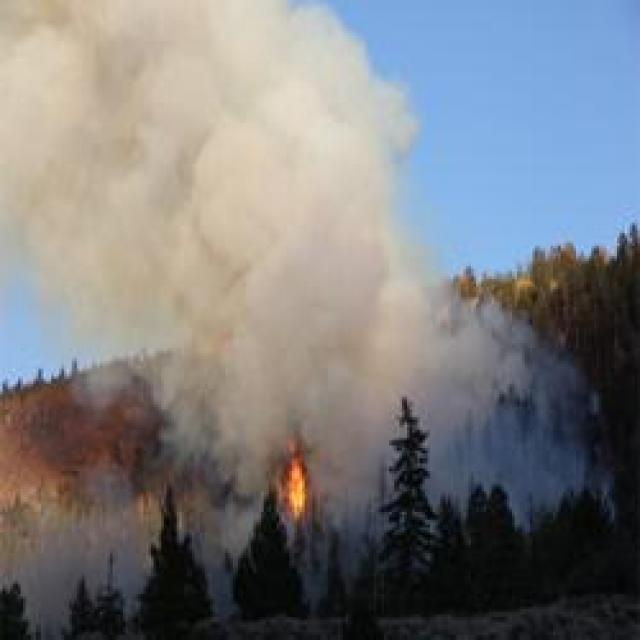fire: (271, 440, 318, 529)
